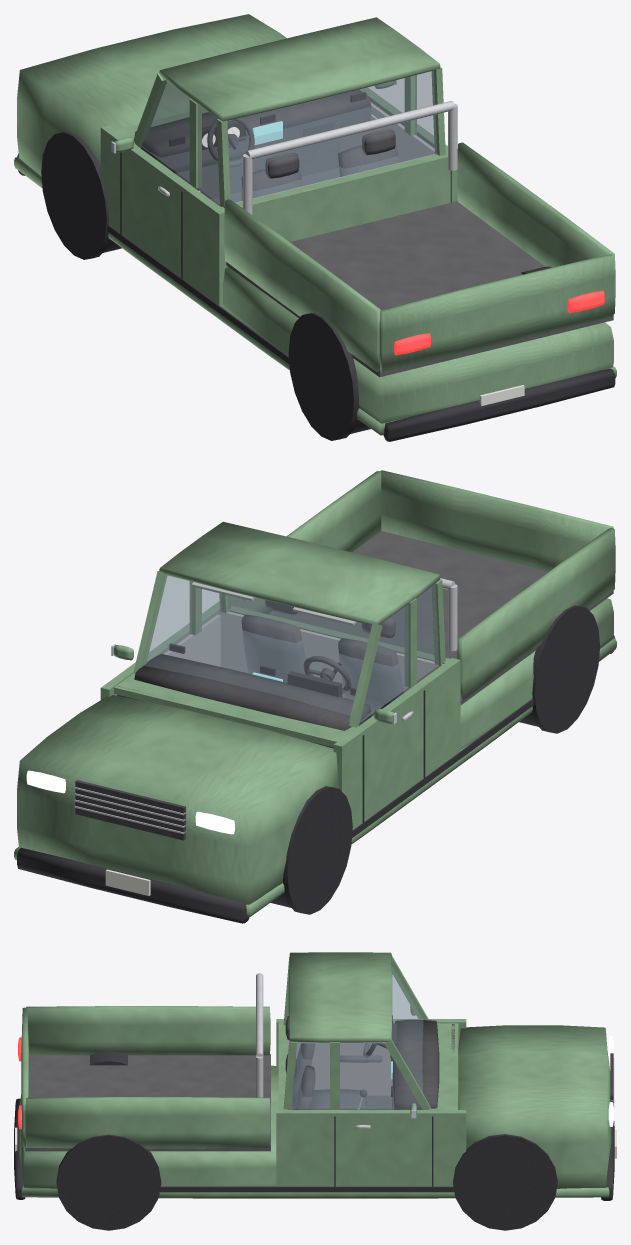
Rendered from truck.glb.
3 renders of one model, top to bottom at view 1: azimuth 30°, elevation 25°; view 2: azimuth 150°, elevation 25°; view 3: azimuth 270°, elevation 25°, orthographic. The views are drawn at different scales.
Visible parts, largest first — view 1: truck_body; view 2: truck_body; view 3: truck_body.
Part boxes in pixels (x1=…): truck_body: x1=14, y1=14, x2=616, y2=441; truck_body: x1=14, y1=470, x2=616, y2=923; truck_body: x1=14, y1=952, x2=616, y2=1230.
Bounding box in the file's own units: 2.34 × 1.87 × 5.4.
Materials: 22 (11 with a texture image).
